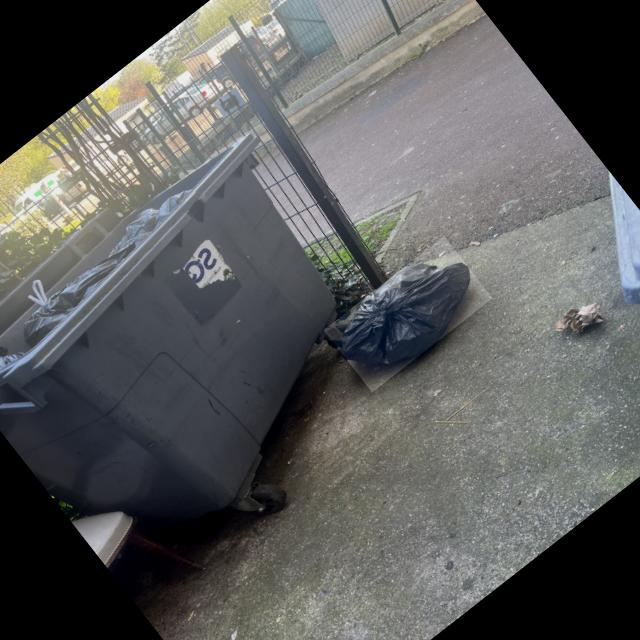Garbage bag: (342, 263, 471, 367)
